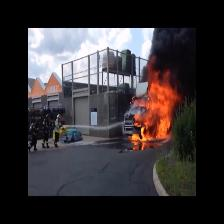fire: (145, 85, 174, 138)
smoke: (156, 30, 193, 82)
